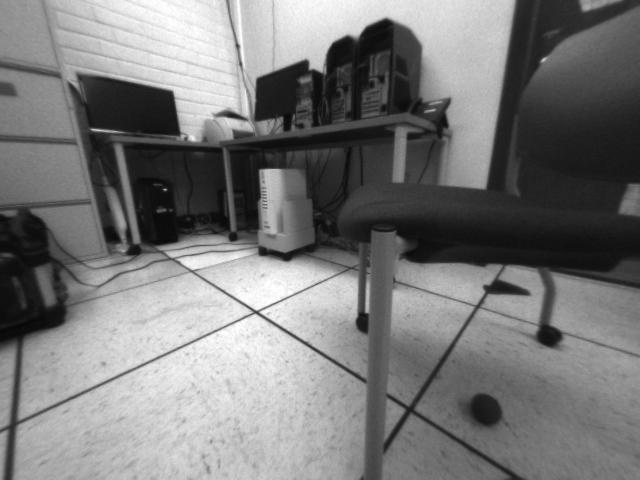dogtoy: (463, 386, 511, 430)
